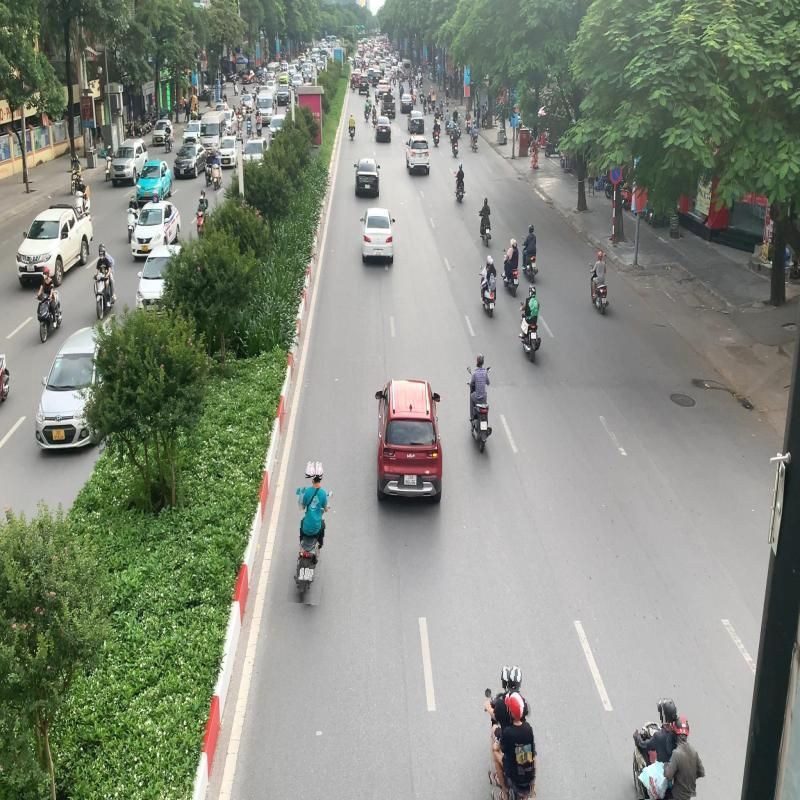helmet: (508, 691, 526, 721), (507, 664, 523, 692), (662, 698, 678, 724), (672, 716, 690, 738), (305, 461, 316, 478), (477, 354, 484, 367)
licenseplate: (303, 568, 314, 582), (480, 421, 487, 430)
motorcyclist: (628, 695, 705, 800), (482, 663, 538, 800), (290, 460, 332, 604), (466, 352, 492, 454)
